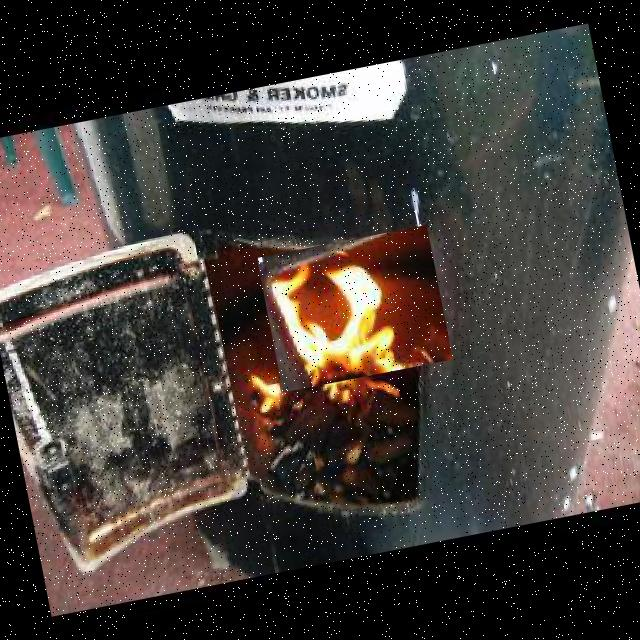fire: (257, 225, 453, 392)
